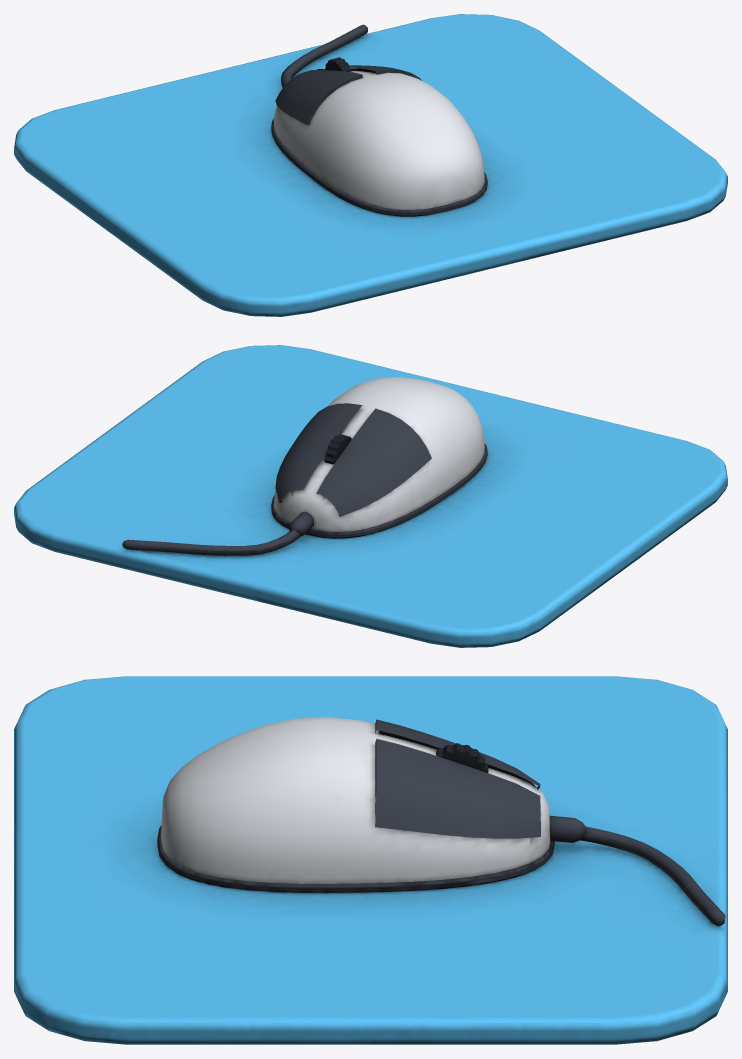
The model's file is computer_mouse.glb.
3 renders of one model, top to bottom at view 1: azimuth 30°, elevation 25°; view 2: azimuth 150°, elevation 25°; view 3: azimuth 270°, elevation 25°, orthographic. The views are drawn at different scales.
Parts seen in each view (by area): view 1: computer_mouse; view 2: computer_mouse; view 3: computer_mouse.
Boxes of the visible parts, <box> form: computer_mouse: <box>14,14,727,316</box>; computer_mouse: <box>14,345,727,647</box>; computer_mouse: <box>14,676,727,1044</box>.
Bounding box in the file's own units: 0.22 × 0.0419 × 0.19.
Materials: 4 (4 with a texture image).
